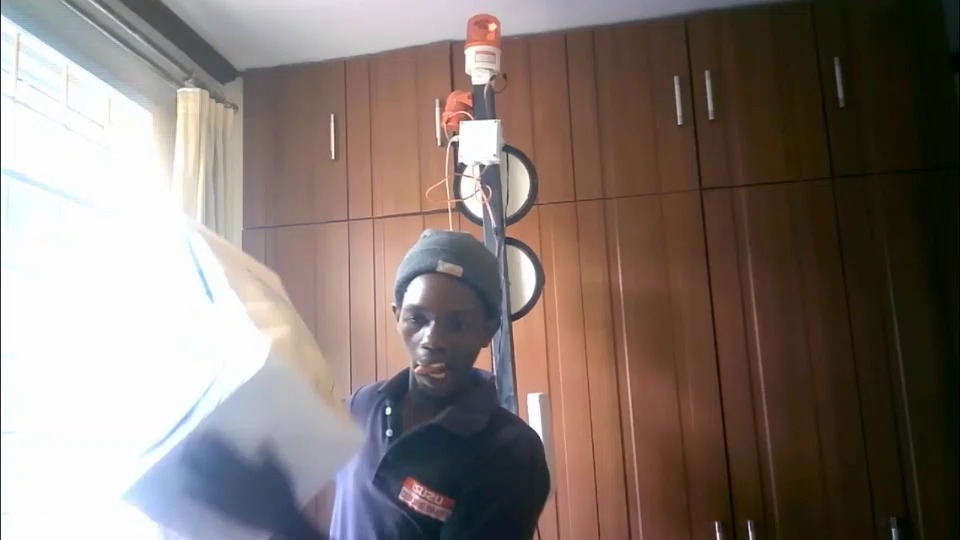maize_flour_green_label: (83, 214, 363, 539)
